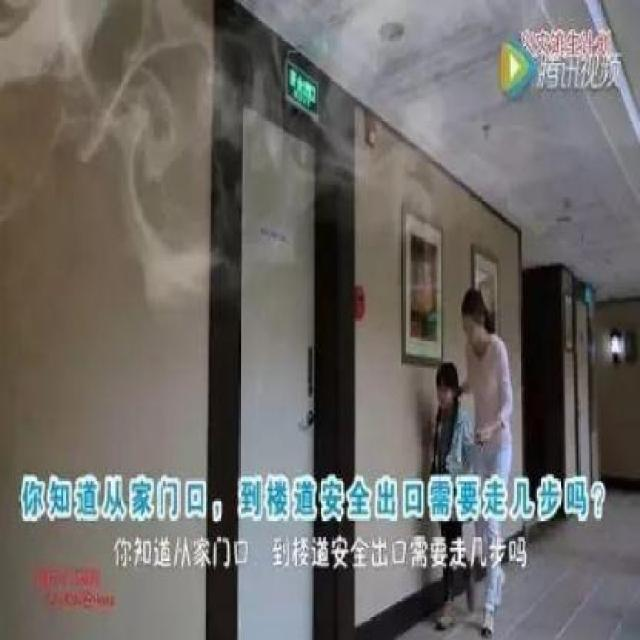exit_sign: (280, 50, 325, 128)
